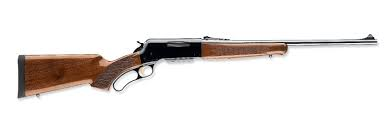gun: (14, 34, 378, 99)
